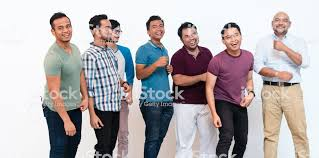person: (44, 11, 86, 82), (83, 9, 122, 76), (139, 12, 170, 75), (266, 10, 298, 69), (214, 25, 250, 75), (175, 17, 204, 76)
